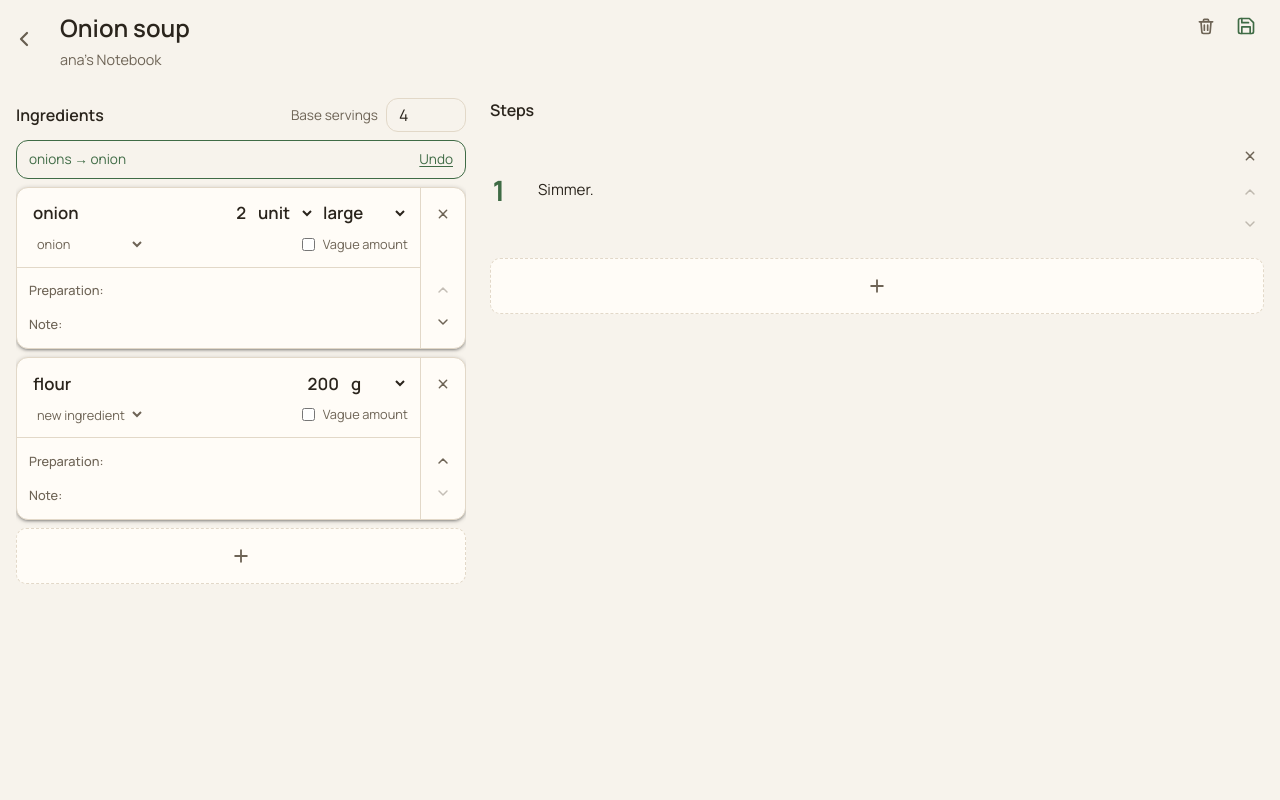
Test case: name changes (spec 018 US2) › shows the change and undo returns only that line to its text name
Click the button "Undo". click: (436, 160)
box: [419,149,453,170]
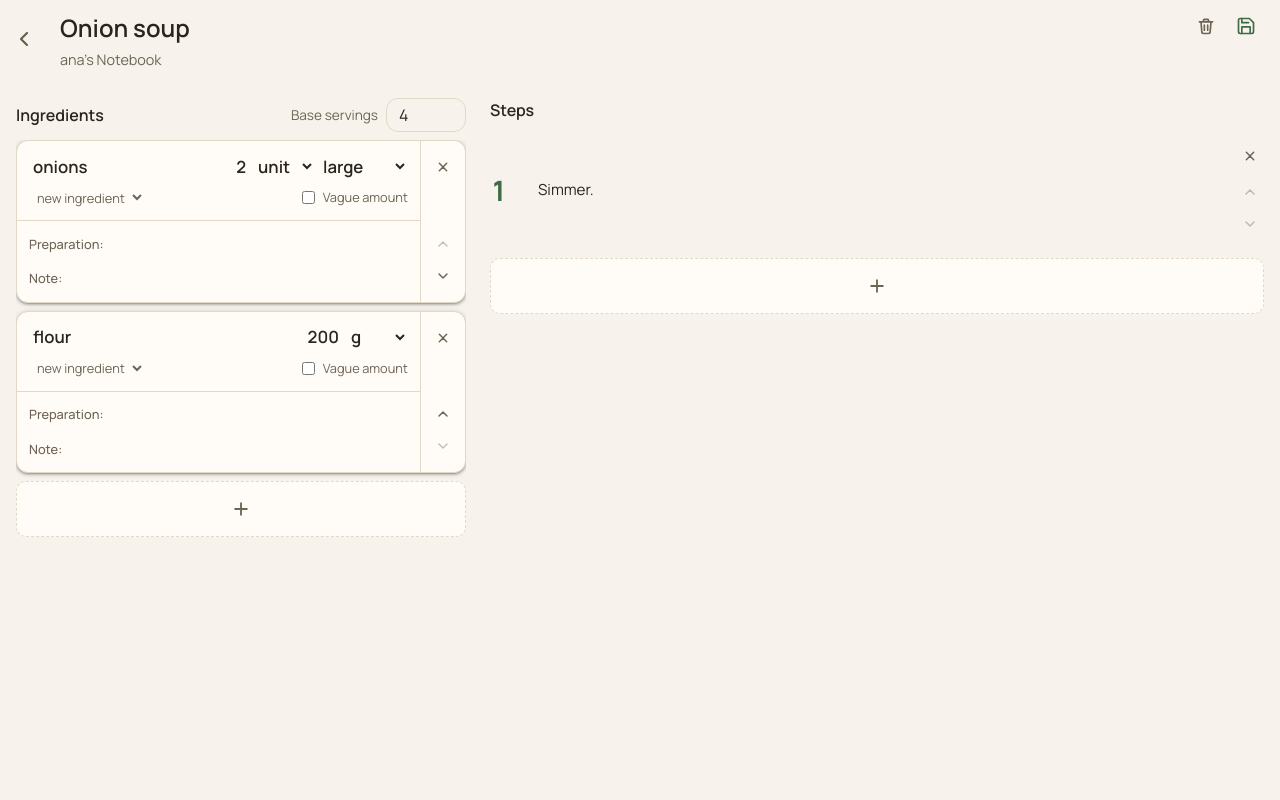
Now the text "onions → onion" is gone
